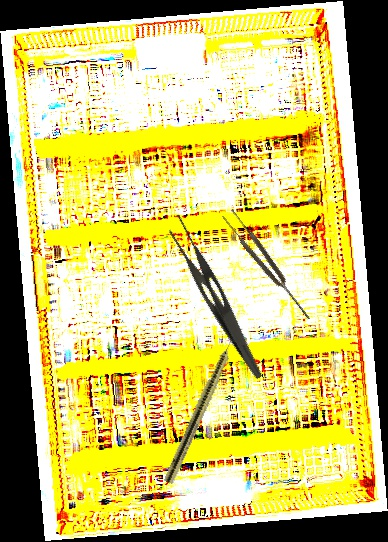Dressing Forceps: (157, 212, 280, 381)
Handpiece: (162, 323, 245, 486)
Tissue Forceps: (221, 207, 315, 325)
